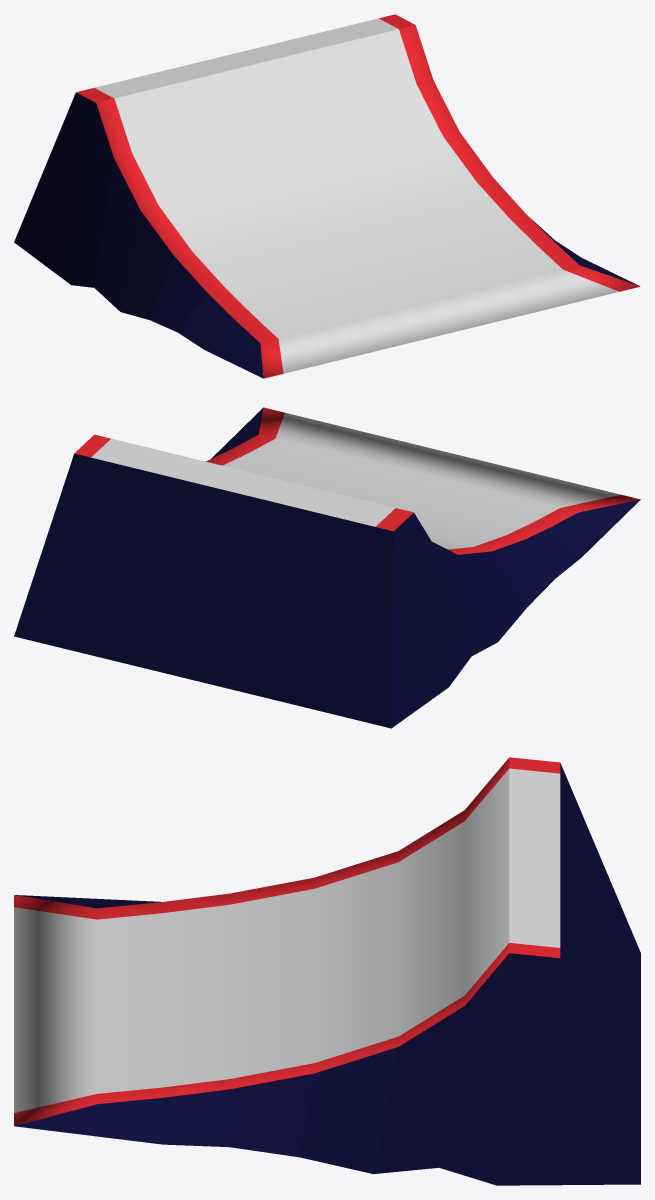
File: Ramp.fbx
3 views of the same model, one above another, from view 1: azimuth 30°, elevation 25°; view 2: azimuth 150°, elevation 25°; view 3: azimuth 270°, elevation 25° (orthographic). The views are drawn at different scales.
Visible parts, largest first — view 1: RAMP; view 2: RAMP; view 3: RAMP.
Part boxes in pixels (x1,y1,x2,y2): RAMP: [14, 14, 640, 378]; RAMP: [14, 407, 640, 728]; RAMP: [14, 757, 640, 1185].
Size of the model in its own units: 236 by 103 by 271.
